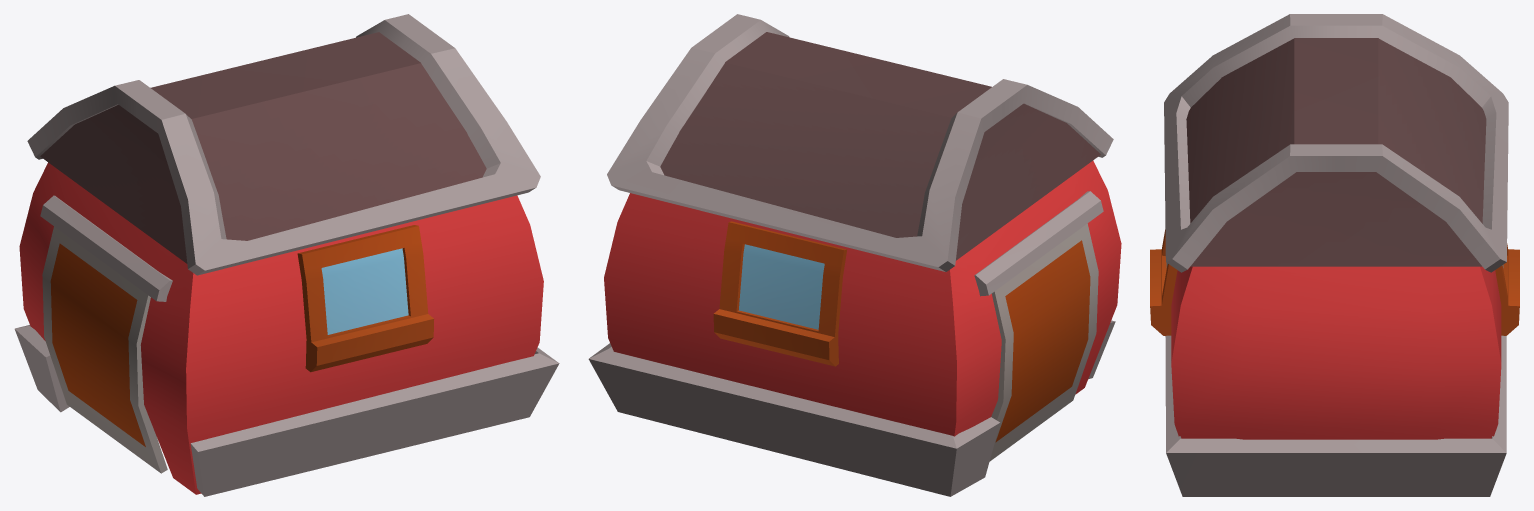
Rendered from base_sellBuy.fbx.
The picture shows the model from 3 angles, left to right: view 1: azimuth 30°, elevation 25°; view 2: azimuth 150°, elevation 25°; view 3: azimuth 270°, elevation 25°; orthographic projection.
Parts seen in each view (by area): view 1: base_sellBuy; view 2: base_sellBuy; view 3: base_sellBuy.
Part boxes in pixels (x1=…): base_sellBuy: x1=14, y1=14, x2=559, y2=496; base_sellBuy: x1=588, y1=14, x2=1121, y2=496; base_sellBuy: x1=1150, y1=14, x2=1519, y2=496.
Bounding box in the file's own units: 900 × 758 × 758.
